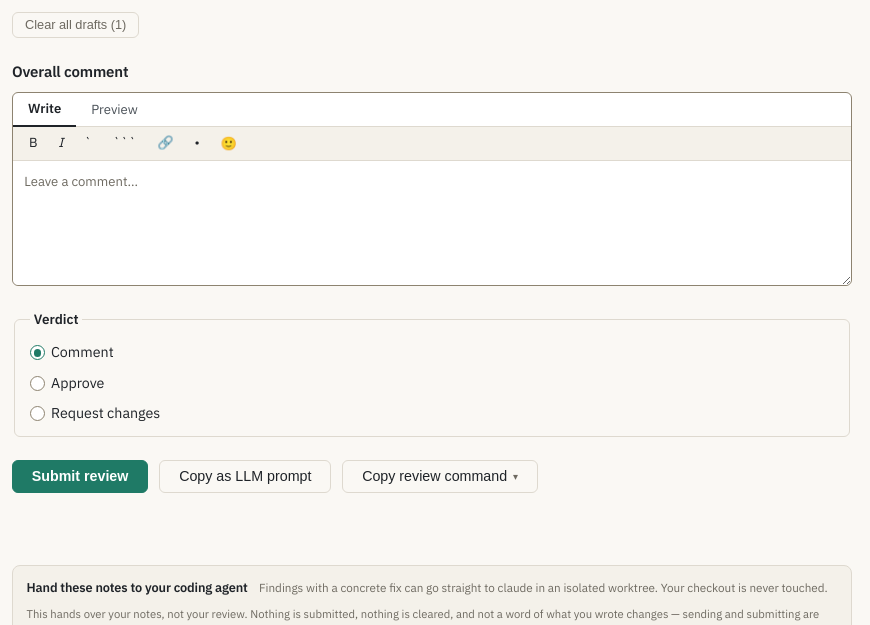
Scenario: what is handed over › carries the overall comment as BACKGROUND and the verdict not at all
The image size is (870, 625).
Type "Use the Result helper throughout." into the text box. click: (432, 223)
box: [13,161,851,285]
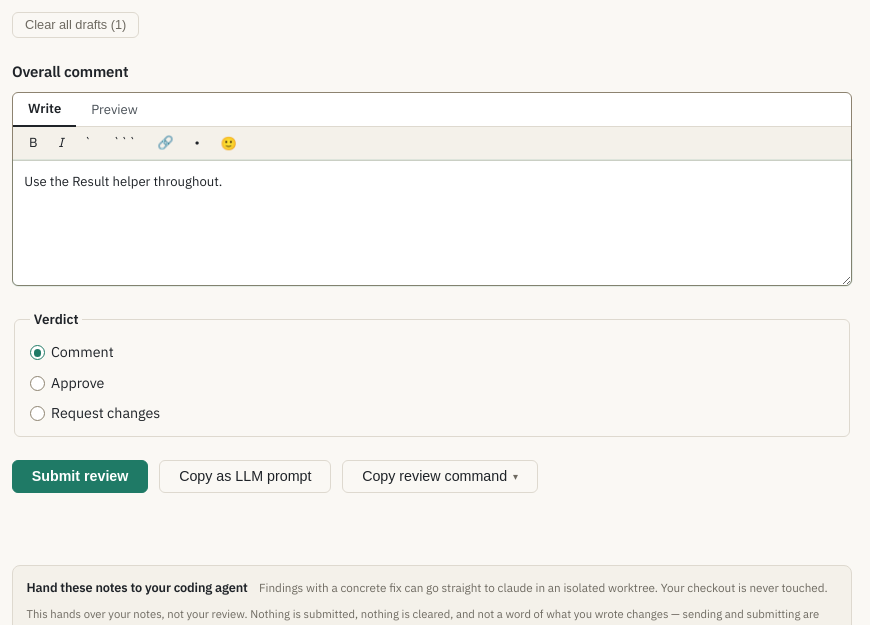
Click the radio button labelled "Request changes". click: click(38, 413)
box: [30,406,45,421]
(page scrolled)
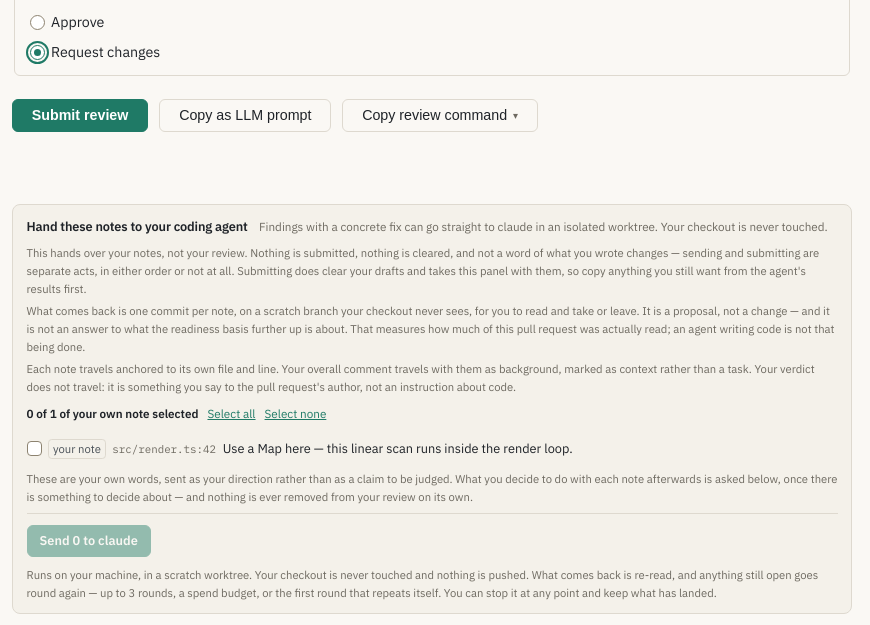
Check: the text with test id "verdict-handover-payload" shows "verdict does not travel", box [26,361,815,394]
Click the checkbox with test id "agent-fix-note-checkbox". click: click(34, 449)
box: [26,441,42,456]
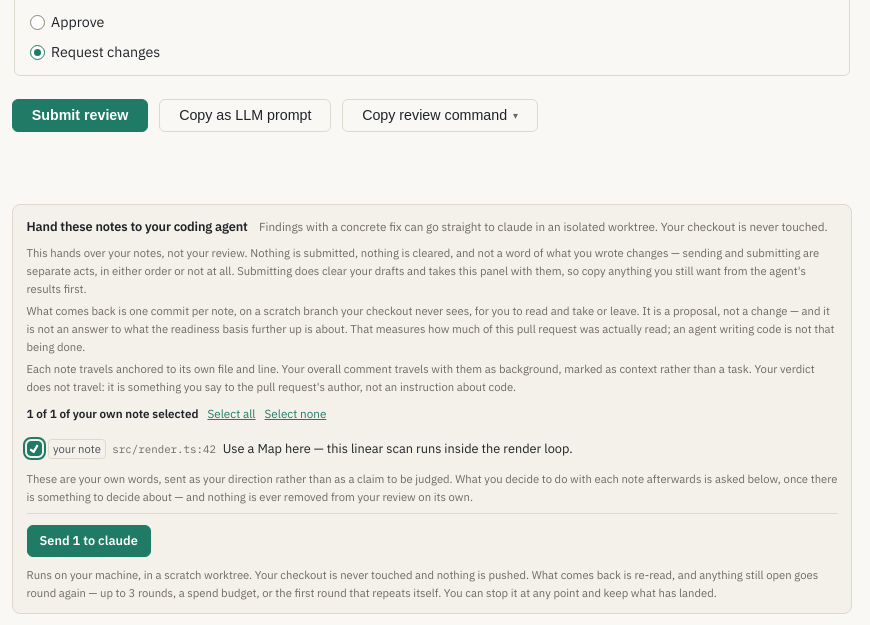
Click the button with test id "agent-fix-send". click: click(89, 541)
box: [26,525,151,557]
(page scrolled)
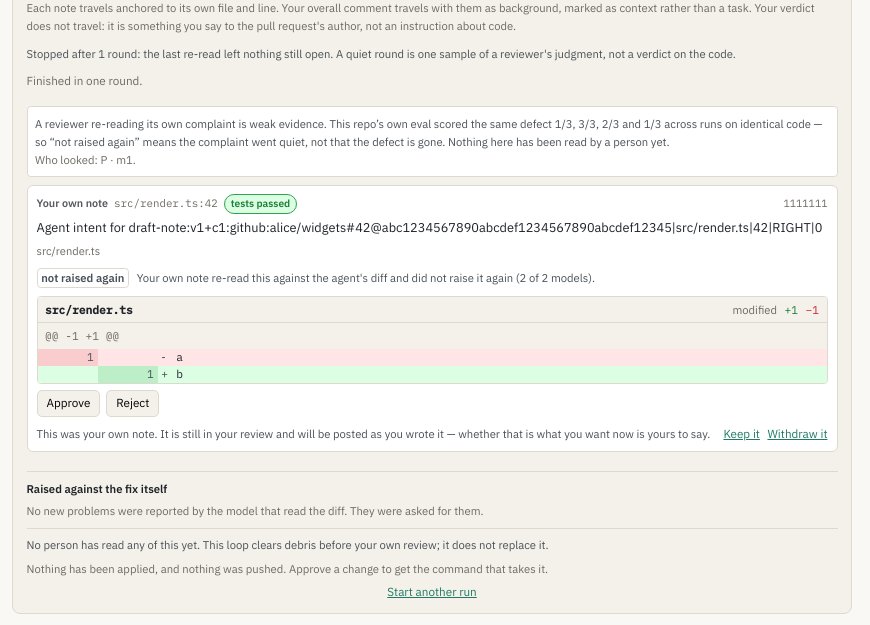
Check: the element with test id "agent-fix-result" is shown, box [26,185,838,452]
